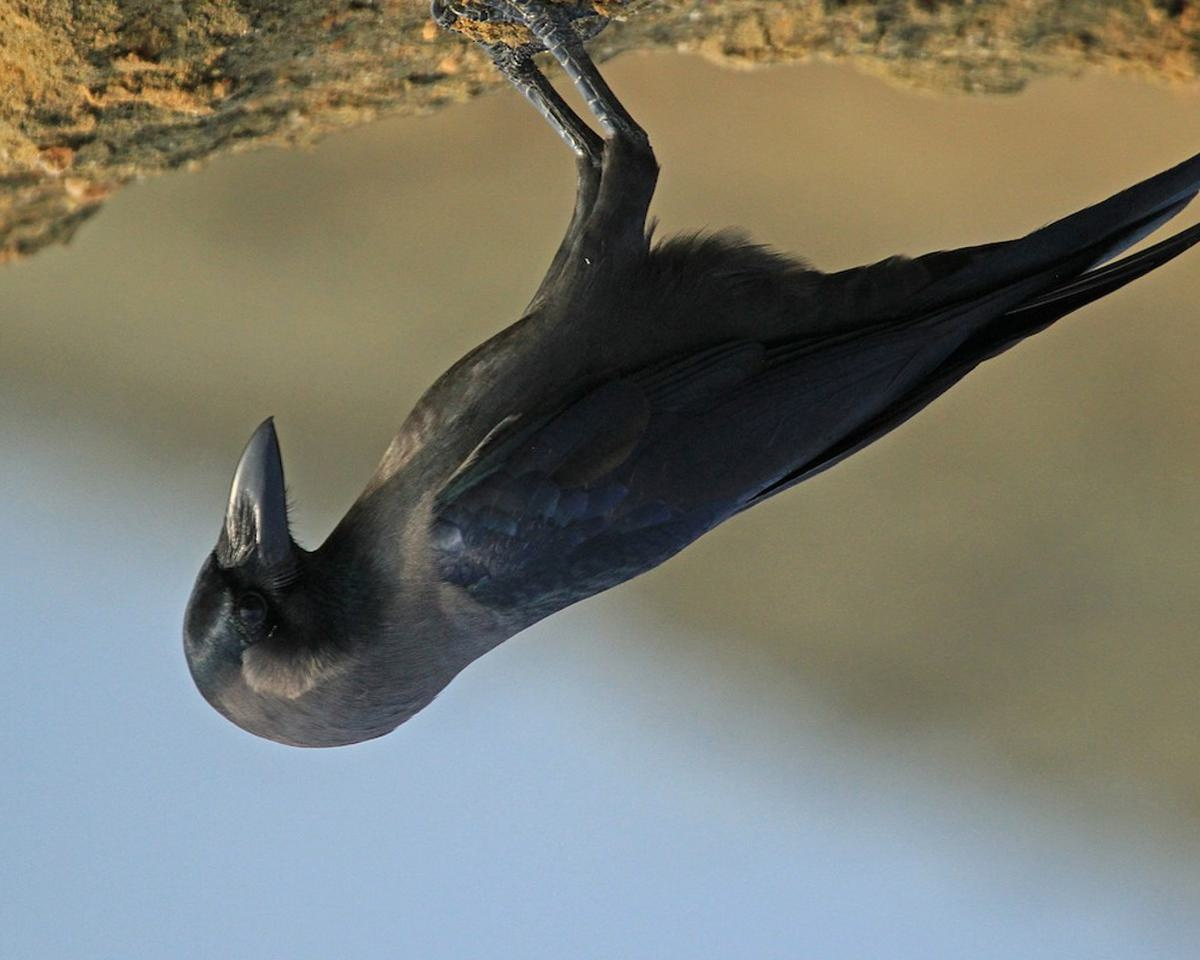crow: (177, 1, 1200, 756)
